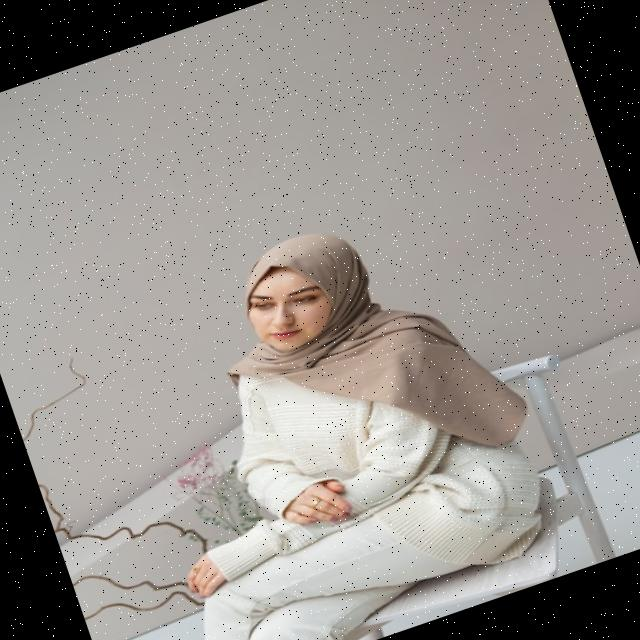Person: (67, 183, 583, 640)
